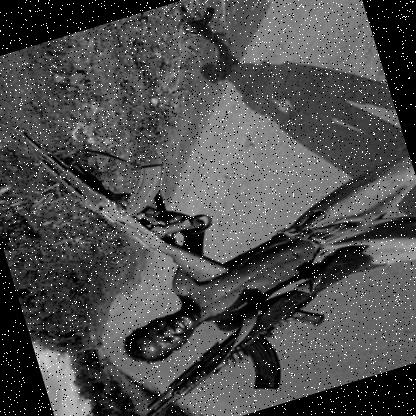rifle: (0, 77, 243, 327), (67, 240, 398, 416)
